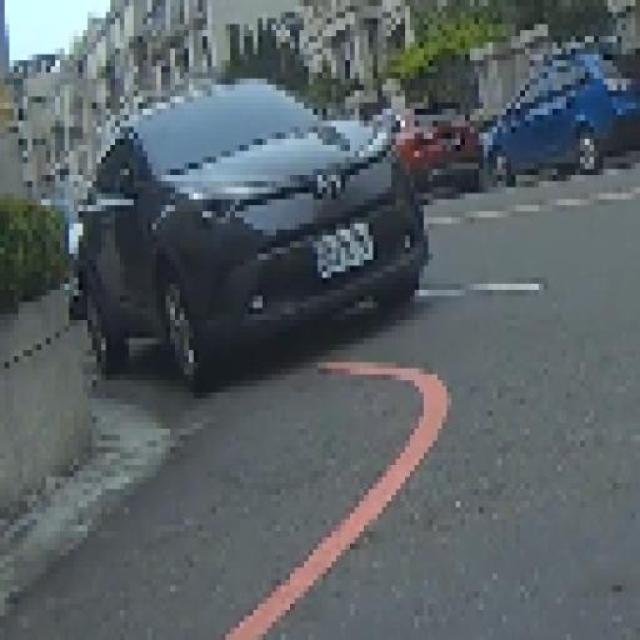Legalparking: (51, 37, 449, 420)
